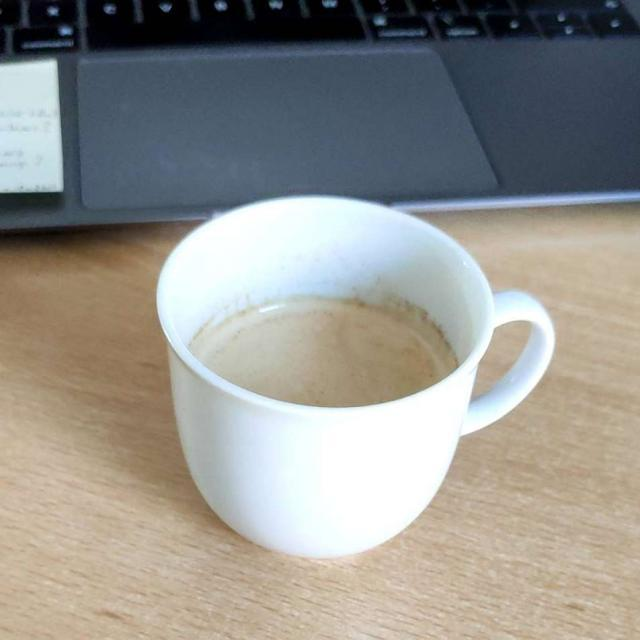coffee: (199, 302, 456, 406)
